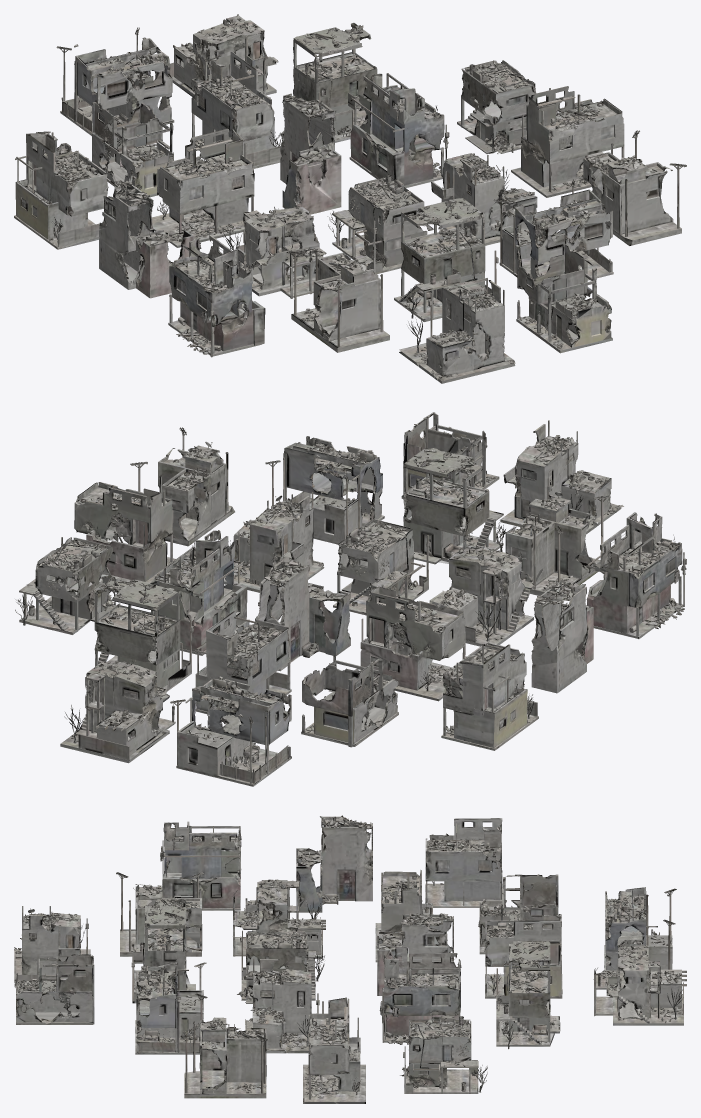
File: destroyed_buildings.glb
The picture shows the model from 3 angles, top to bottom: view 1: azimuth 30°, elevation 25°; view 2: azimuth 150°, elevation 25°; view 3: azimuth 270°, elevation 25°; orthographic projection. The views are drawn at different scales.
Bounding box in the file's own units: 50.14 × 8.85 × 64.87.
Materials: 1 (1 with a texture image).
